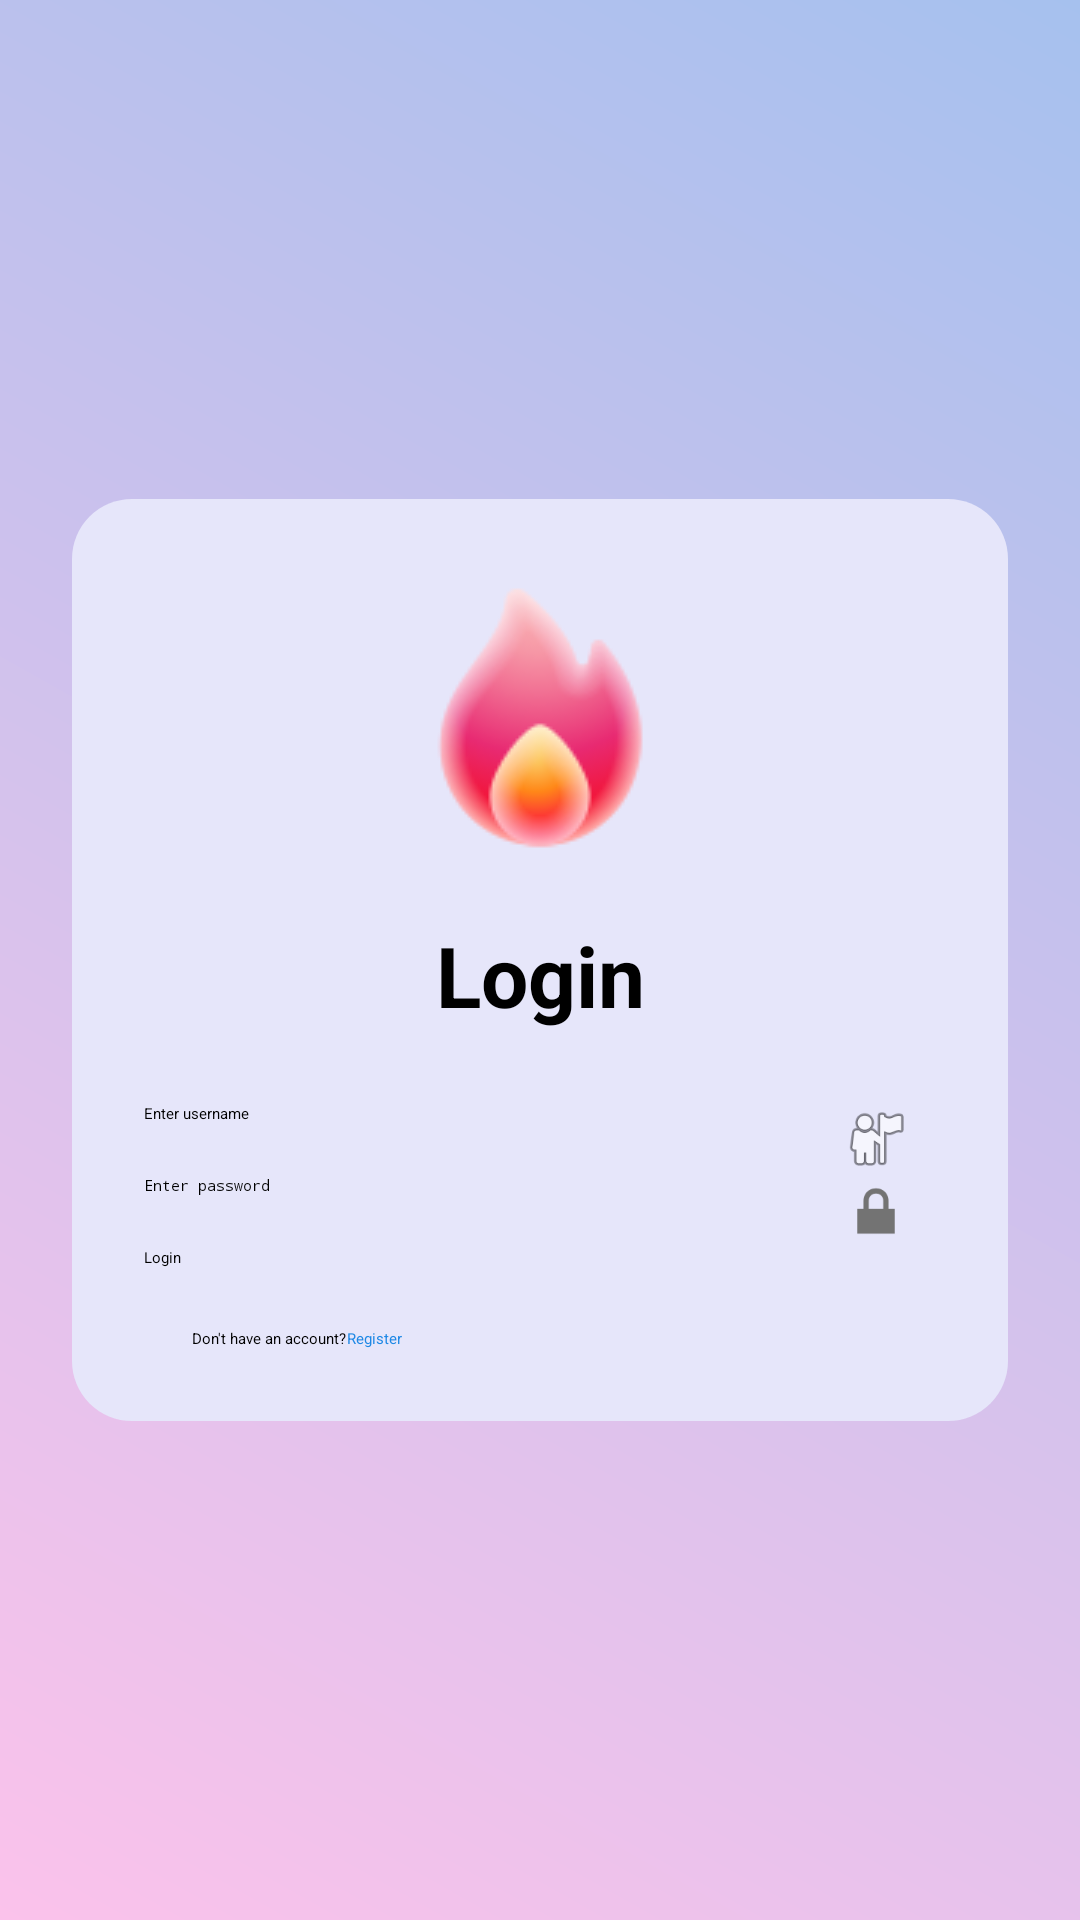

Locate icon controls on the screen. Image size 1080px x 1920px, boxes as detection(x1, y1, x2, y2).
lock: detection(857, 1188, 895, 1234)
